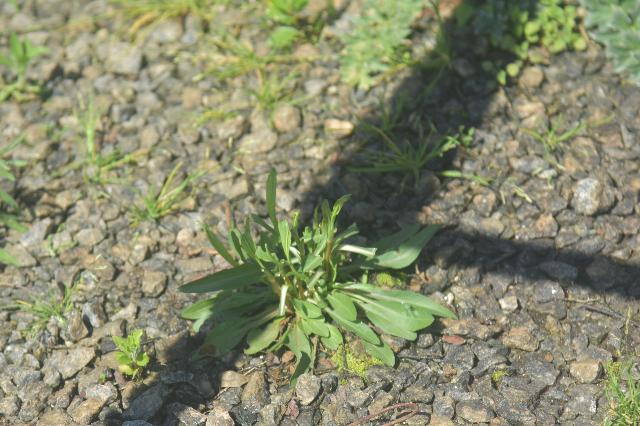MalezaMontesDelPlata: (176, 166, 449, 338), (119, 162, 213, 226), (6, 272, 89, 340), (583, 360, 640, 426), (111, 323, 153, 393)
MusgoMontesDelPlata: (331, 342, 384, 385), (487, 365, 516, 386)
